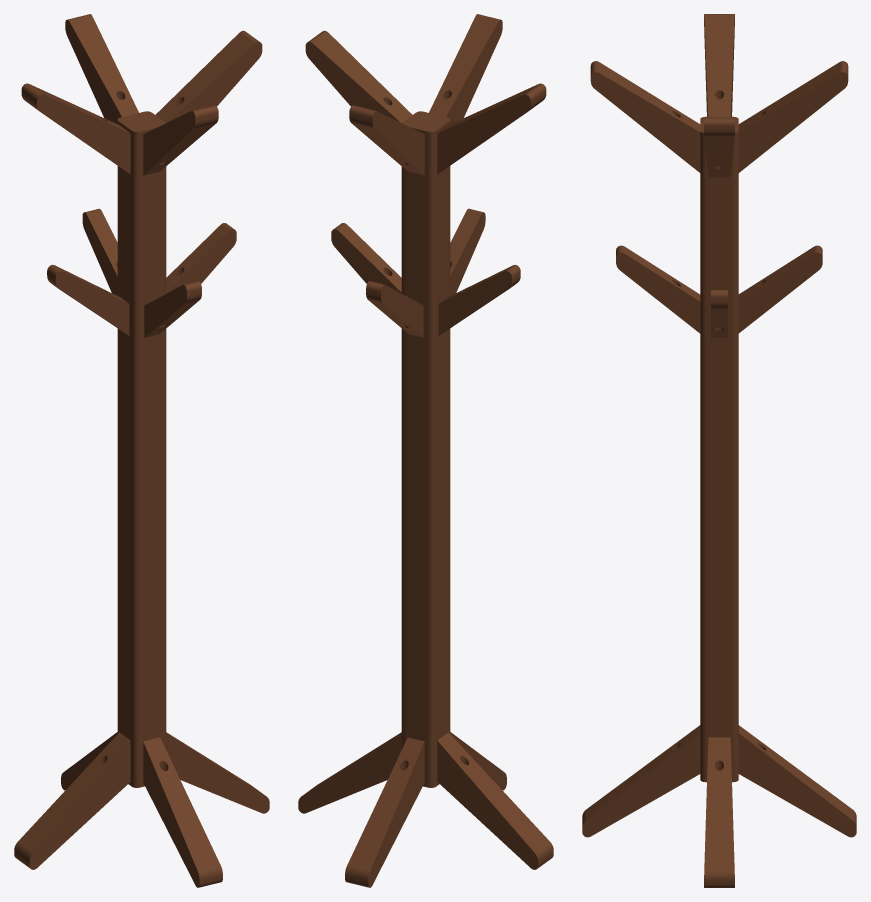
The model's file is PorteManteau1_4.fbx.
The picture shows the model from 3 angles, left to right: view 1: azimuth 30°, elevation 25°; view 2: azimuth 150°, elevation 25°; view 3: azimuth 270°, elevation 25°; orthographic projection.
Parts seen in each view (by area): view 1: polySurface47, polySurface48, polySurface50, polySurface51, polySurface49; view 2: polySurface47, polySurface48, polySurface50, polySurface49, polySurface51; view 3: polySurface47, polySurface51, polySurface49, polySurface50.
Boxes of the visible parts, x1,y1,x2,y2 form: polySurface47: (14, 14, 269, 887); polySurface48: (47, 264, 129, 335); polySurface50: (166, 223, 236, 293); polySurface51: (144, 281, 201, 337); polySurface49: (82, 208, 117, 295); polySurface47: (298, 14, 553, 887); polySurface48: (438, 264, 520, 335); polySurface50: (331, 223, 401, 293); polySurface49: (366, 281, 423, 337); polySurface51: (450, 208, 485, 295); polySurface47: (582, 14, 856, 887); polySurface51: (616, 245, 700, 333); polySurface49: (738, 245, 822, 333); polySurface50: (711, 290, 727, 337).
Bounding box in the file's own units: 20.49 × 63.05 × 20.49.
